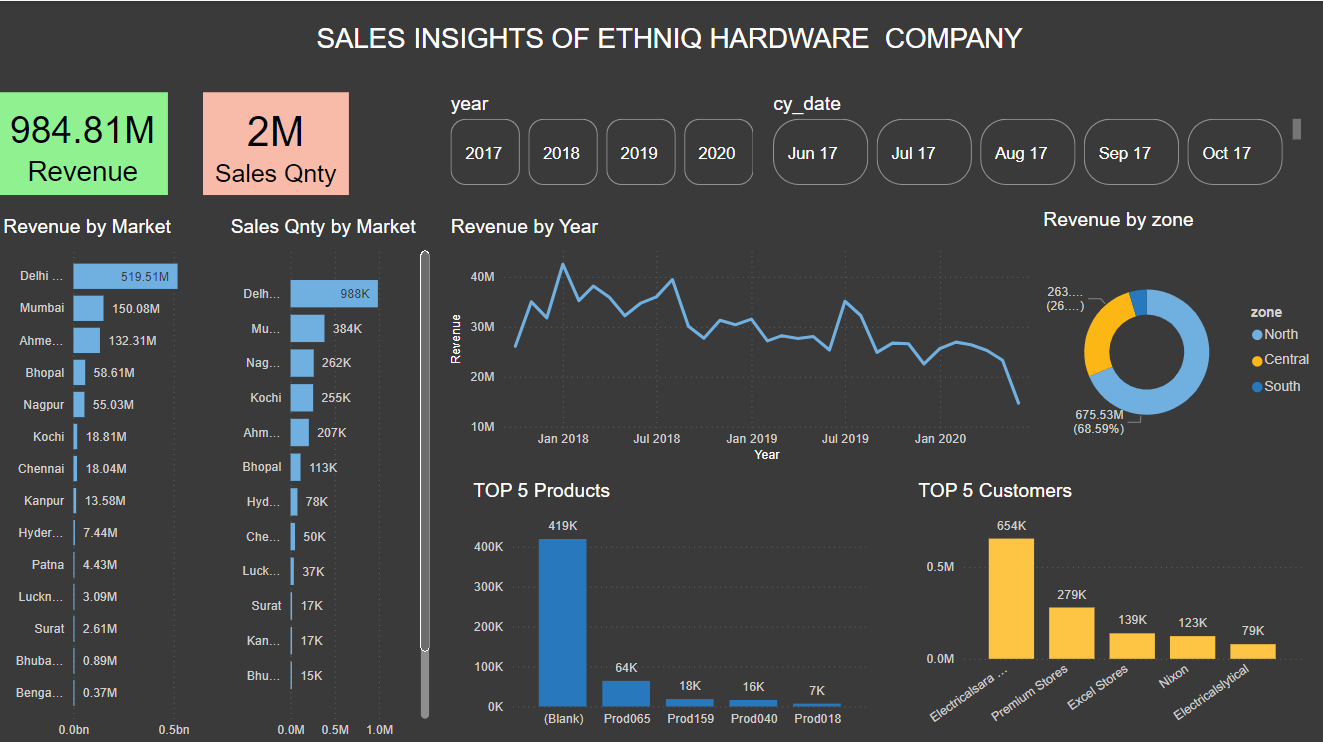

This screenshot's page, from the dashboard's own definition file:
{"tool":"powerbi","page":{"name":"Page 1","canvas":[1280,720],"ordinal":0},"visuals":[{"type":"shape","box":[441,0,837.6,51.4],"z":0,"group":"g4"},{"type":"shape","box":[1,6,425.5,108.8],"z":0,"group":"g1"},{"type":"shape","box":[0,123.5,432.9,596.7],"z":0},{"type":"shape","box":[447.6,162.6,831.5,556.4],"z":0,"group":"g3"},{"type":"card","fields":{"Values":["BaseMeasures.Revenue"]},"box":[35.1,17.5,171.4,92.6],"z":1000,"group":"g1"},{"type":"shape","box":[450,59.9,830.6,97.4],"z":1000,"group":"g2"},{"type":"barChart","title":"Revenue by Market","fields":{"Y":["BaseMeasures.Revenue"],"Category":["sales markets.markets_name"]},"box":[12.2,139.4,207.9,566.2],"z":1000},{"type":"card","fields":{"Values":["BaseMeasures.Sales Qnty"]},"box":[207.7,17.5,159.6,92.6],"z":2000,"group":"g1"},{"type":"barChart","title":"Sales Qnty by Market","fields":{"Y":["BaseMeasures.Sales Qnty"],"Category":["sales markets.markets_name"]},"box":[220.1,139.4,196.9,566.2],"z":2000},{"type":"group","id":"g1","title":"Group 1","box":[1,6,425.5,108.8],"z":3000},{"type":"group","id":"g2","title":"Group 2","box":[450,59.9,830.6,97.4],"z":4000},{"type":"advancedSlicerVisual","title":"Year","fields":{"Values":["sales date.year"]},"box":[467.1,71,330.2,79.5],"z":5000,"group":"g2"},{"type":"group","id":"g3","title":"Group 3","box":[447.6,162.6,831.5,556.4],"z":5000},{"type":"group","id":"g4","title":"Group 4","box":[441,0,839,64],"z":6000},{"type":"clusteredBarChart","title":"TOP 5 Products","fields":{"Category":["sales products.product_code"],"Y":["BaseMeasures.Sales Qnty"]},"box":[942.3,429.5,322.8,263.3],"z":6000,"group":"g3"},{"type":"columnChart","title":"TOP 5 Customers","fields":{"Category":["sales customers.custmer_name"],"Y":["BaseMeasures.Sales Qnty"]},"box":[462.2,441.5,459.5,251.3],"z":7000,"group":"g3"},{"type":"lineChart","title":"Revenue by Year","fields":{"Y":["BaseMeasures.Revenue"],"Category":["sales date.cy_date.Variation.Date Hierarchy.Year","sales date.cy_date.Variation.Date Hierarchy.Quarter","sales date.cy_date.Variation.Date Hierarchy.Month","sales date.cy_date.Variation.Date Hierarchy.Day"]},"box":[462.2,187.6,458.2,232.7],"z":8000,"group":"g3"},{"type":"donutChart","fields":{"Y":["BaseMeasures.Revenue"],"Category":["sales markets.zone"]},"box":[932.7,187.6,322.8,232.7],"z":9000,"group":"g3"},{"type":"slicer","title":"Date","fields":{"Values":["sales date.cy_date"]},"box":[813.2,69.8,459.8,83.2],"z":10000,"group":"g2"},{"type":"textbox","box":[482.8,7,797.2,57],"z":11000,"group":"g4"}]}

Visuals, with their boxes in screenshot pixels (x1, y1, x2, y2), scaled from the page's 1280x720 canvas onto the 1323x742 screenshot:
shape: select_region(456, 0, 1322, 53)
shape: select_region(1, 6, 441, 118)
shape: select_region(0, 127, 447, 741)
shape: select_region(463, 168, 1322, 741)
card - BaseMeasures.Revenue: select_region(36, 18, 213, 113)
shape: select_region(465, 62, 1322, 162)
"Revenue by Market" barChart: select_region(13, 144, 227, 727)
card - BaseMeasures.Sales Qnty: select_region(215, 18, 380, 113)
"Sales Qnty by Market" barChart: select_region(227, 144, 431, 727)
"Group 1" group: select_region(1, 6, 441, 118)
"Group 2" group: select_region(465, 62, 1322, 162)
"Year" advancedSlicerVisual: select_region(483, 73, 824, 155)
"Group 3" group: select_region(463, 168, 1322, 741)
"Group 4" group: select_region(456, 0, 1322, 66)
"TOP 5 Products" clusteredBarChart: select_region(974, 443, 1308, 714)
"TOP 5 Customers" columnChart: select_region(478, 455, 953, 714)
"Revenue by Year" lineChart: select_region(478, 193, 951, 433)
donutChart - BaseMeasures.Revenue x sales markets.zone: select_region(964, 193, 1298, 433)
"Date" slicer: select_region(841, 72, 1316, 158)
textbox: select_region(499, 7, 1322, 66)
